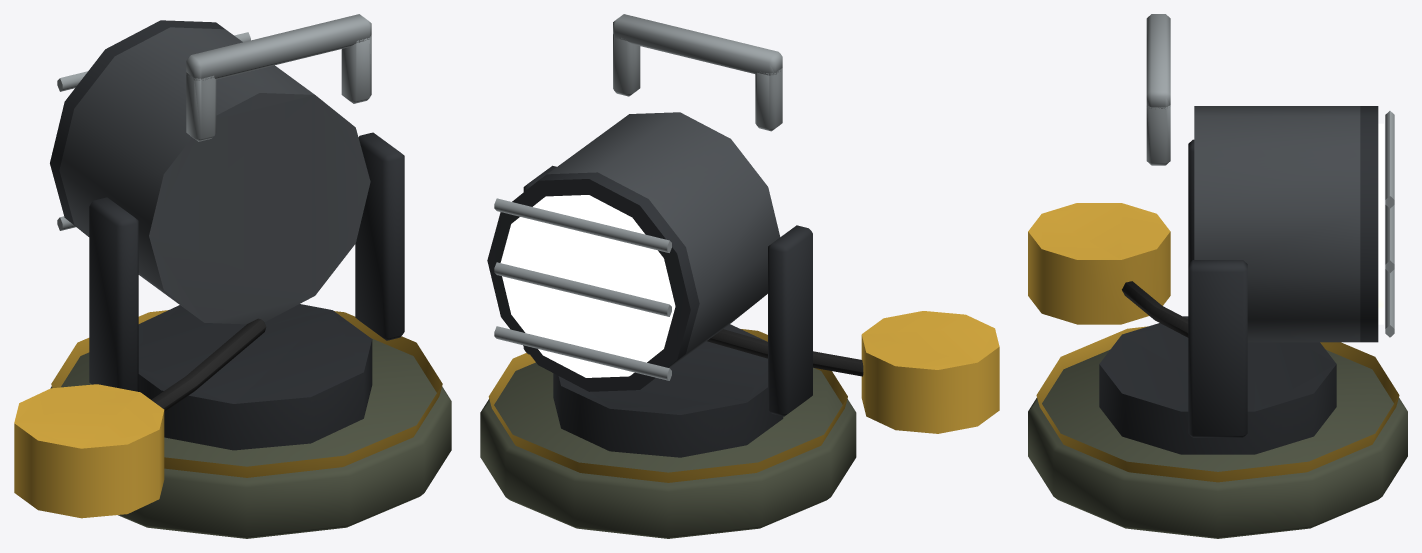
The model's file is light_block.glb.
The picture shows the model from 3 angles, left to right: view 1: azimuth 30°, elevation 25°; view 2: azimuth 150°, elevation 25°; view 3: azimuth 270°, elevation 25°; orthographic projection. The views are drawn at different scales.
Visible parts, largest first — view 1: light_block; view 2: light_block; view 3: light_block.
Part boxes in pixels (x1=…): light_block: x1=14, y1=14, x2=451, y2=538; light_block: x1=480, y1=14, x2=999, y2=538; light_block: x1=1028, y1=14, x2=1407, y2=538.
Size of the model in its own units: 0.4171 by 0.38 by 0.32.
Materials: 1 (1 with a texture image).
